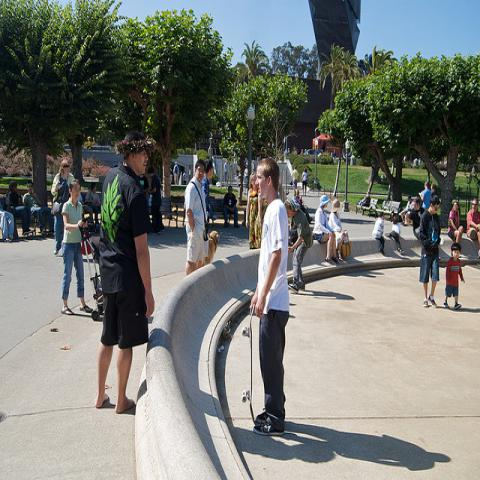car: (303, 149, 321, 156)
